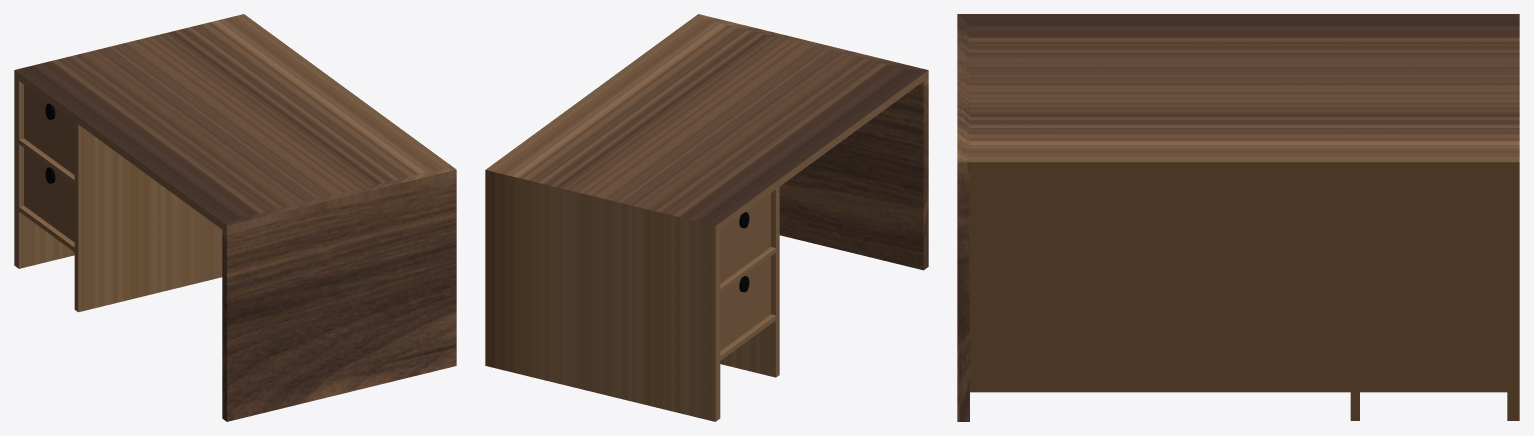
Rendered from Table.fbx.
The picture shows the model from 3 angles, left to right: view 1: azimuth 30°, elevation 25°; view 2: azimuth 150°, elevation 25°; view 3: azimuth 270°, elevation 25°; orthographic projection. The views are drawn at different scales.
Parts seen in each view (by area): view 1: Table; view 2: Table; view 3: Table.
Boxes of the visible parts, x1,y1,x2,y2 form: Table: (14,14,456,421); Table: (485,14,928,421); Table: (957,14,1519,421).
Bounding box in the file's own units: 224 × 183 × 359.
Materials: 3 (1 with a texture image).
